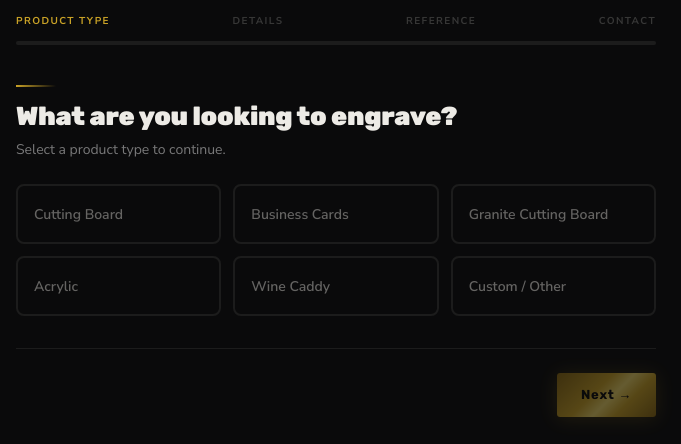
it: OrderWizard › Next button enables after selecting a product type
This screenshot has width=681, height=444.
Click the button "Cutting Board".
click(119, 214)  # box [16,184,221,244]
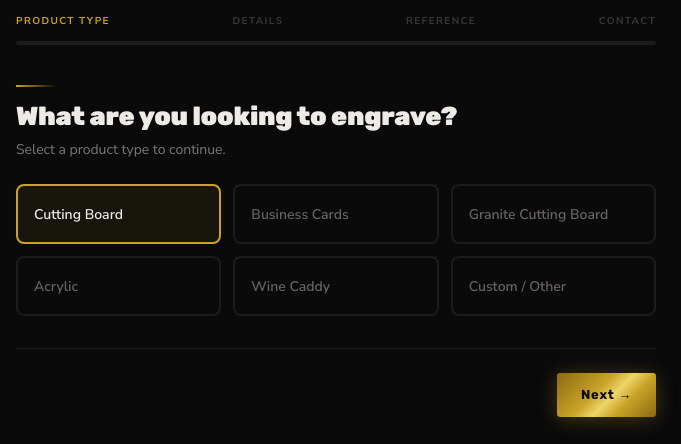
Expected: the button "Next →" is enabled, [557,373,656,416]
